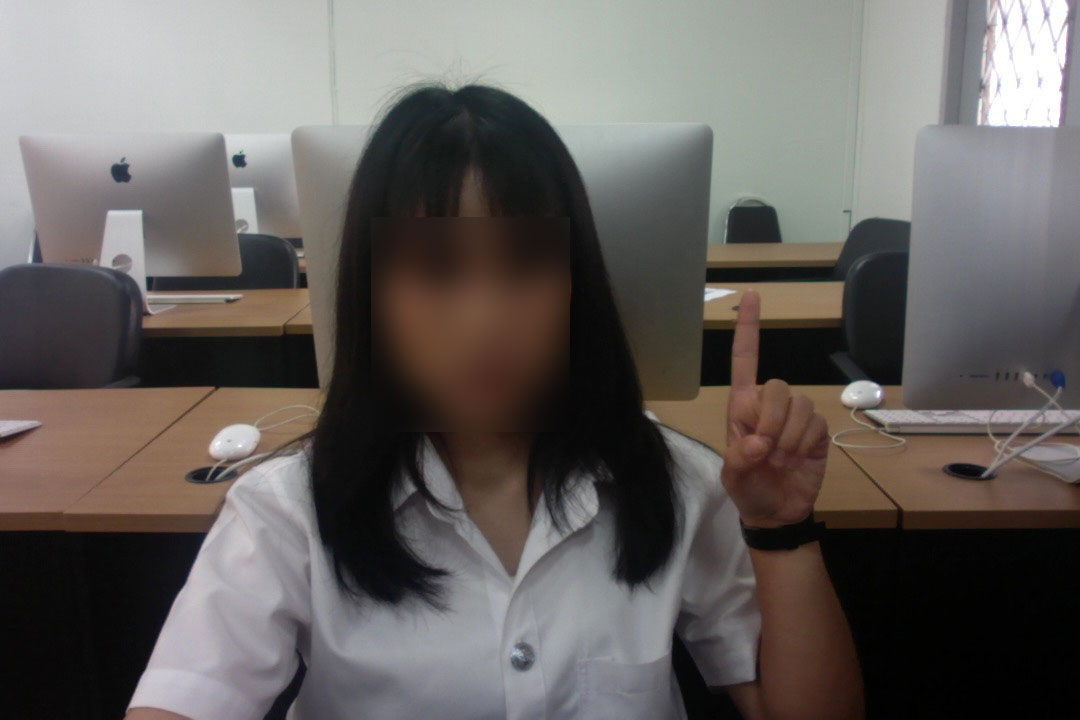dor: (712, 282, 834, 564)
